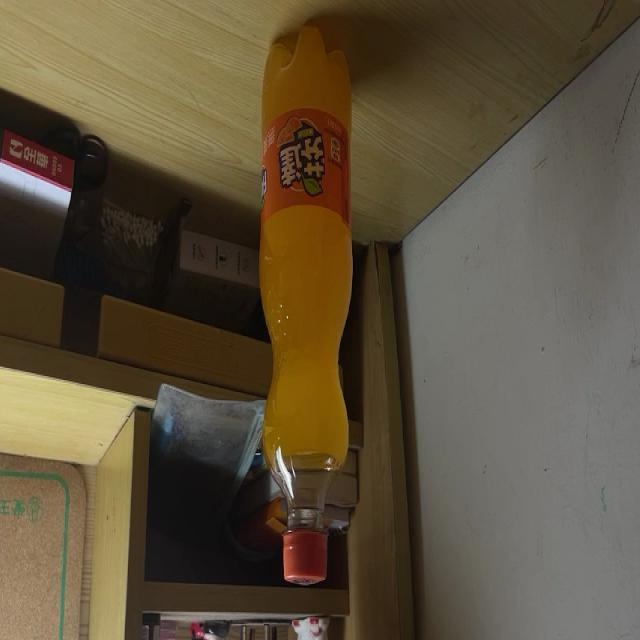Fanta: (258, 29, 353, 585)
